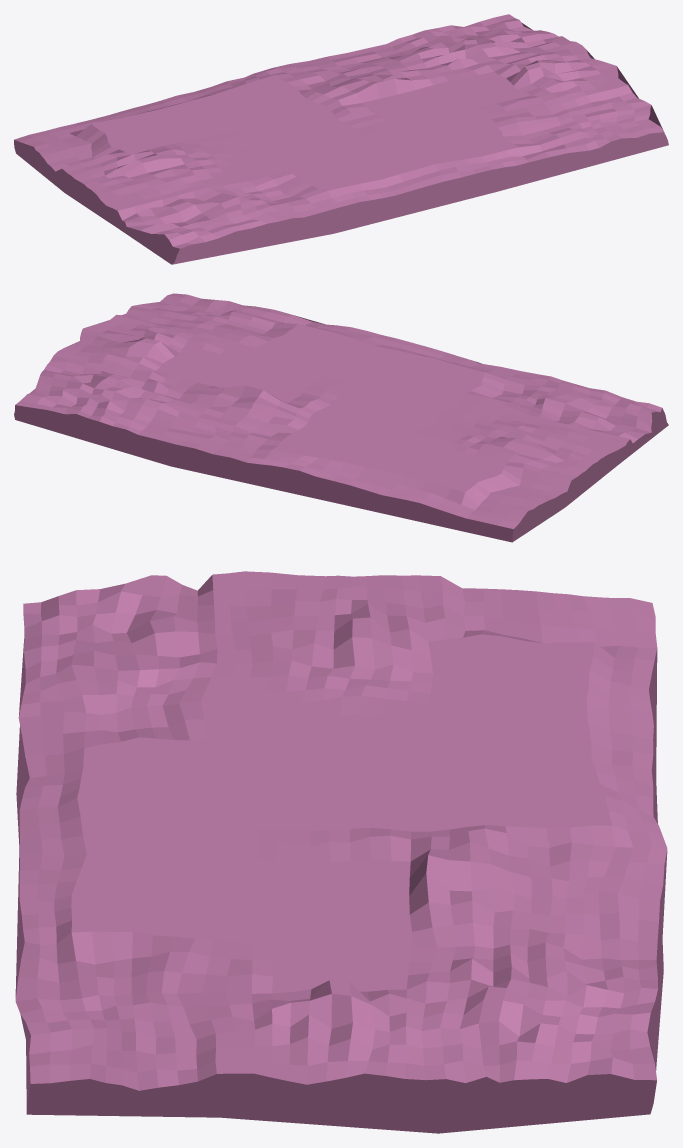
File: zemın3.fbx
3 renders of one model, top to bottom at view 1: azimuth 30°, elevation 25°; view 2: azimuth 150°, elevation 25°; view 3: azimuth 270°, elevation 25°, orthographic. The views are drawn at different scales.
Visible parts, largest first — view 1: Plane.017; view 2: Plane.017; view 3: Plane.017.
Boxes of the visible parts, x1,y1,x2,y2 form: Plane.017: (14,14,668,264); Plane.017: (14,293,668,542); Plane.017: (15,571,667,1133).
Bounding box in the file's own units: 5411 × 419 × 2888.
